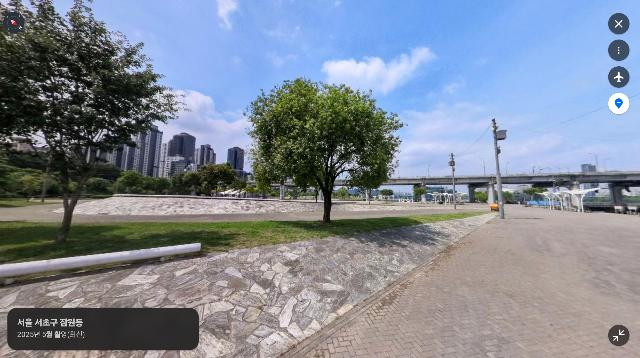other: (0, 0, 192, 242), (243, 76, 409, 224), (186, 162, 240, 198), (113, 170, 159, 197), (157, 176, 186, 197), (409, 184, 428, 203), (374, 189, 395, 203), (335, 187, 350, 200)
